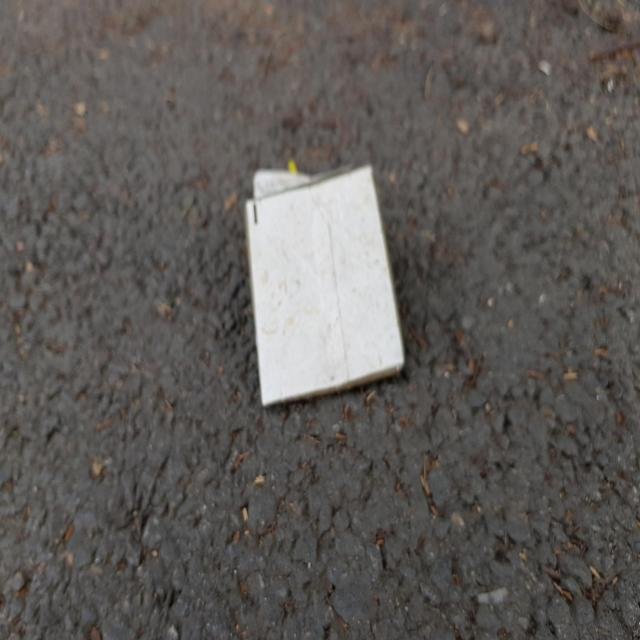paperpack: (246, 165, 404, 405)
